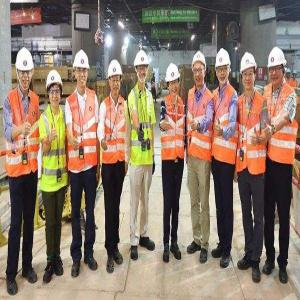white: (267, 46, 287, 90), (17, 47, 35, 94), (240, 51, 260, 93), (214, 45, 232, 88), (45, 69, 63, 110), (134, 48, 152, 89), (74, 49, 90, 91), (107, 55, 123, 97), (191, 49, 207, 89), (165, 62, 181, 100)
